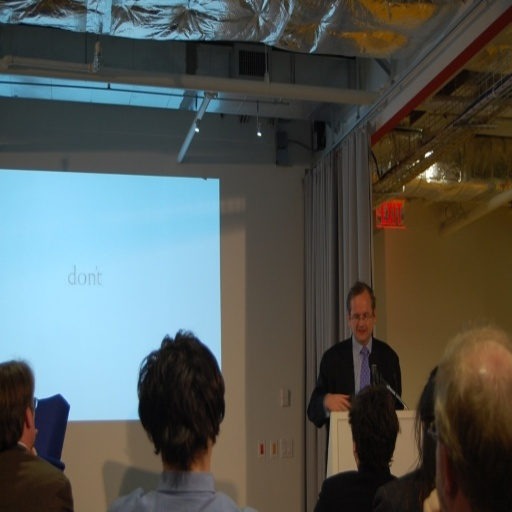hand: (325, 392, 351, 414), (31, 428, 38, 453)
